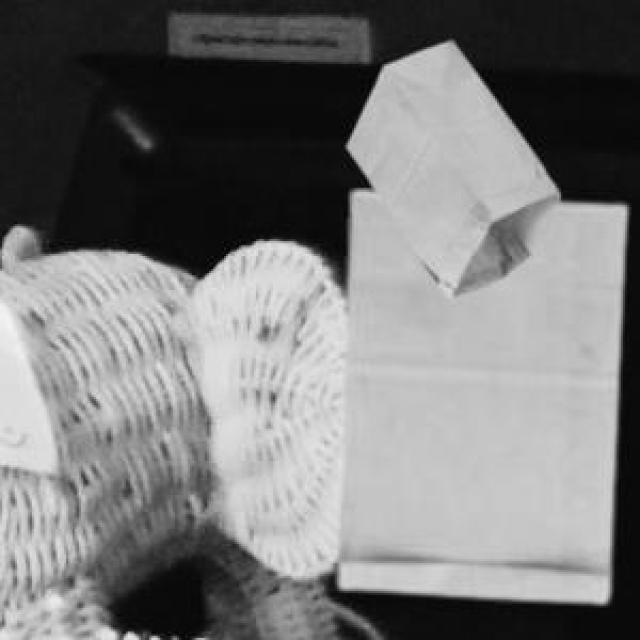paper: (335, 188, 623, 600), (344, 38, 555, 294)
